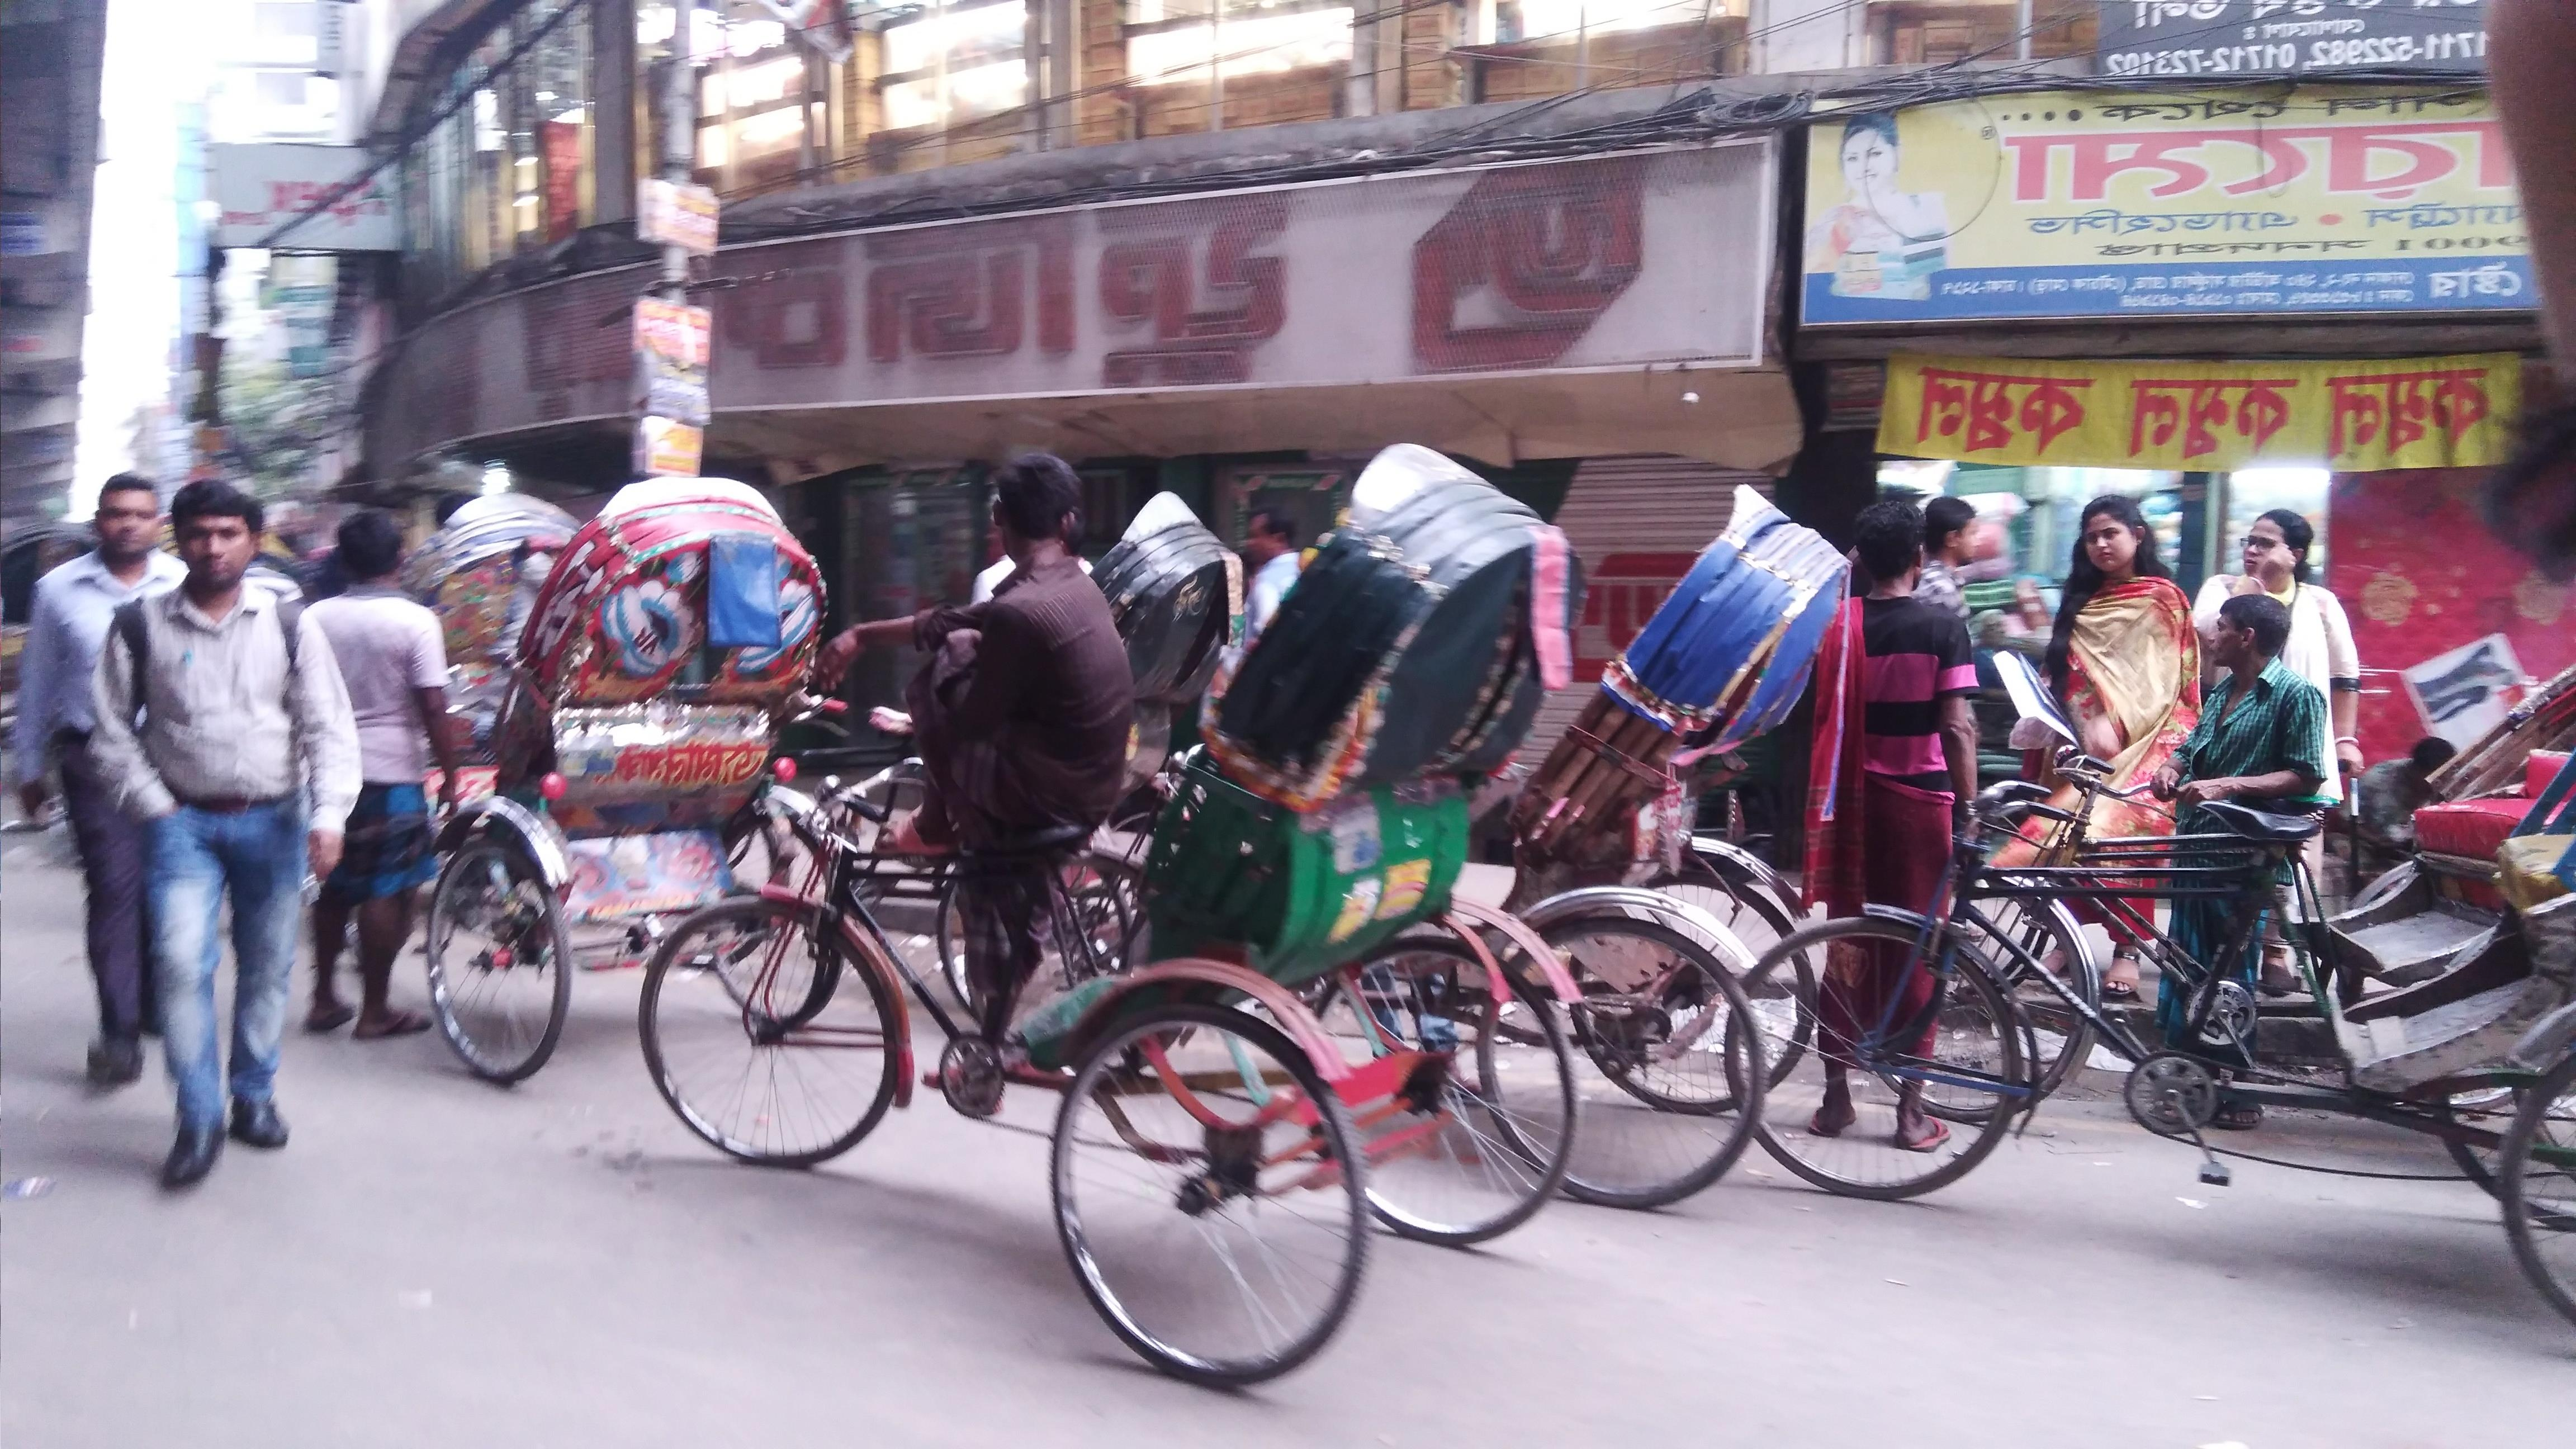Rickshaw: (782, 402, 1553, 1380), (1868, 610, 2565, 1309), (198, 421, 851, 1139), (1537, 485, 1856, 1157), (363, 403, 616, 876), (1070, 453, 1251, 876)
